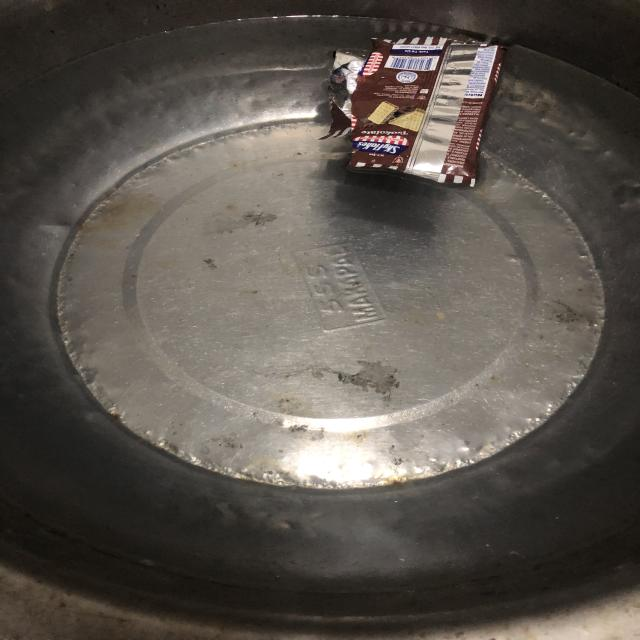Plastic Wrapper: (320, 37, 507, 187)
